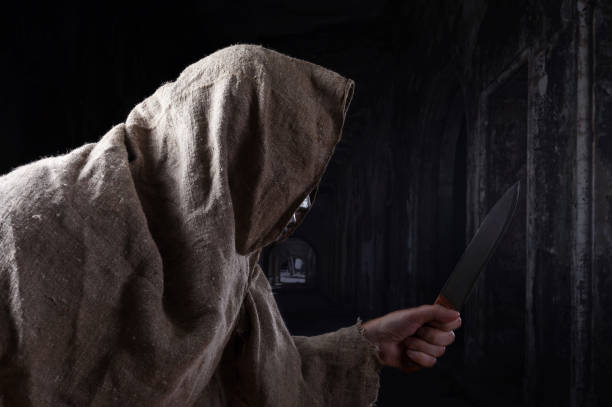knife: (432, 177, 523, 313)
